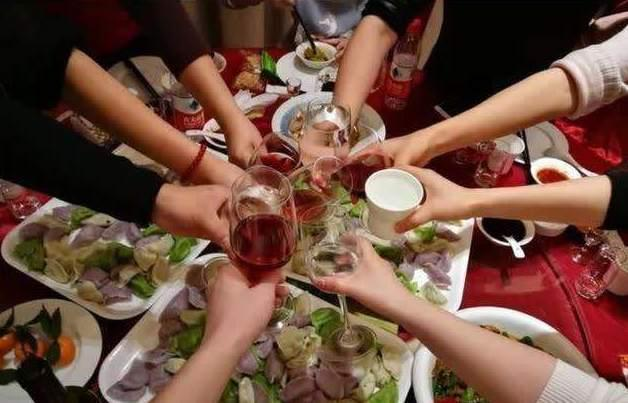food: (12, 198, 210, 308), (8, 297, 95, 372)
